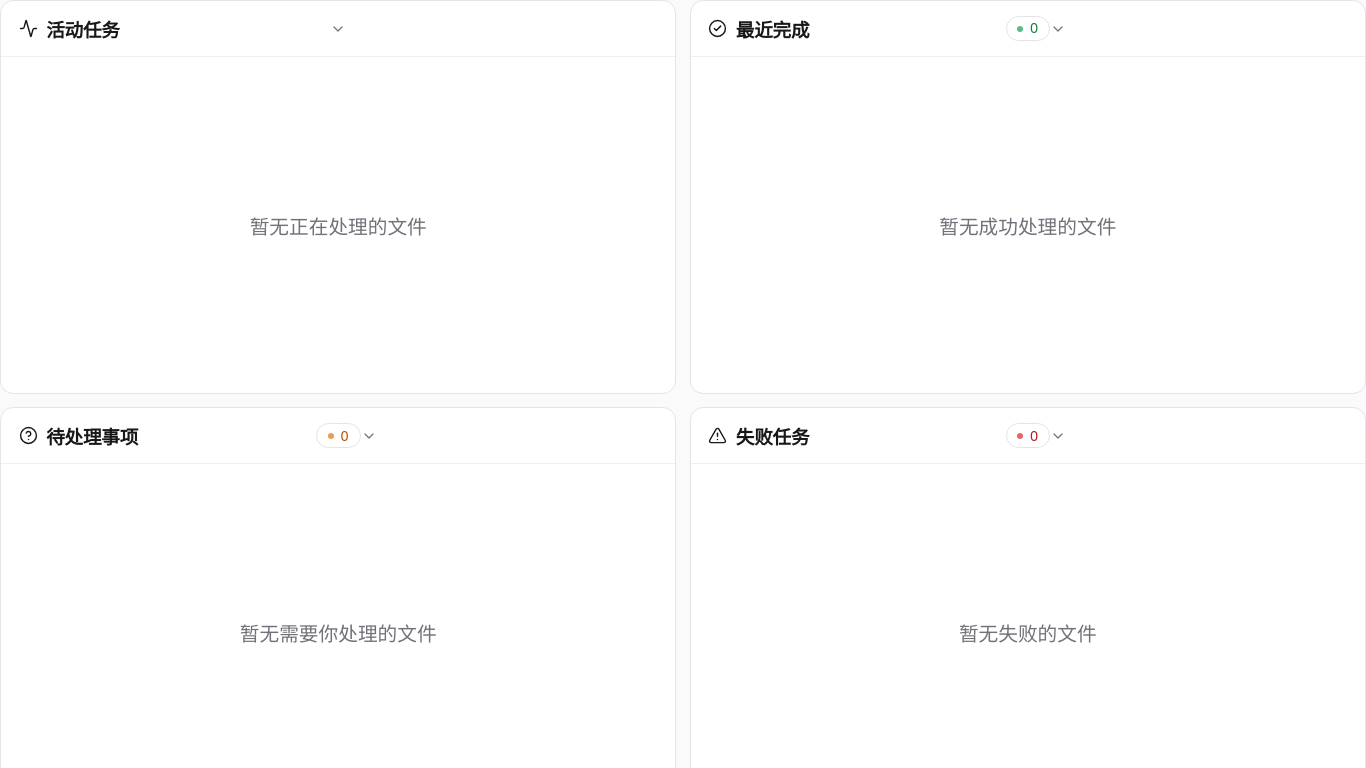
Test: TaskQueue › keeps each status card collapsible
Click the button "活动任务": (338, 29) [1,1,675,57]
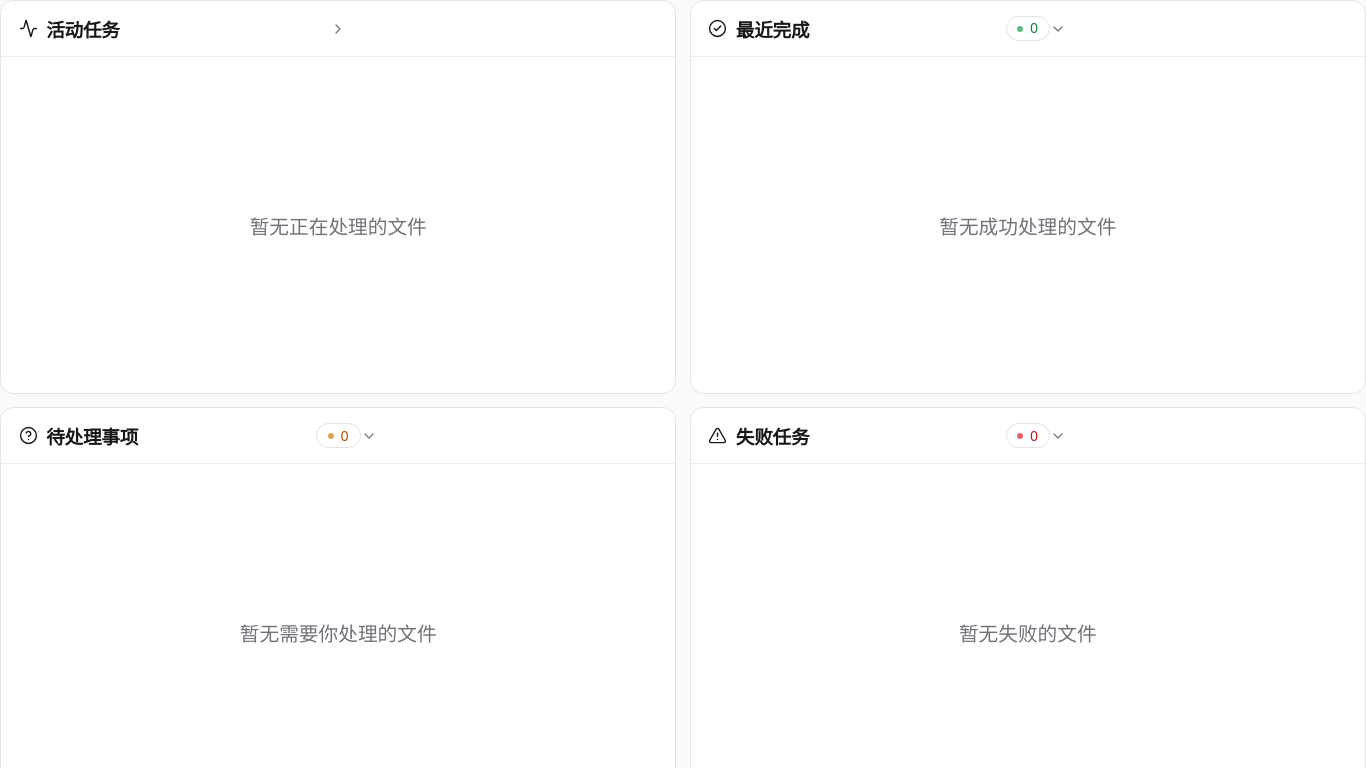
Expected: the button "活动任务" is collapsed, [1,1,675,57]
